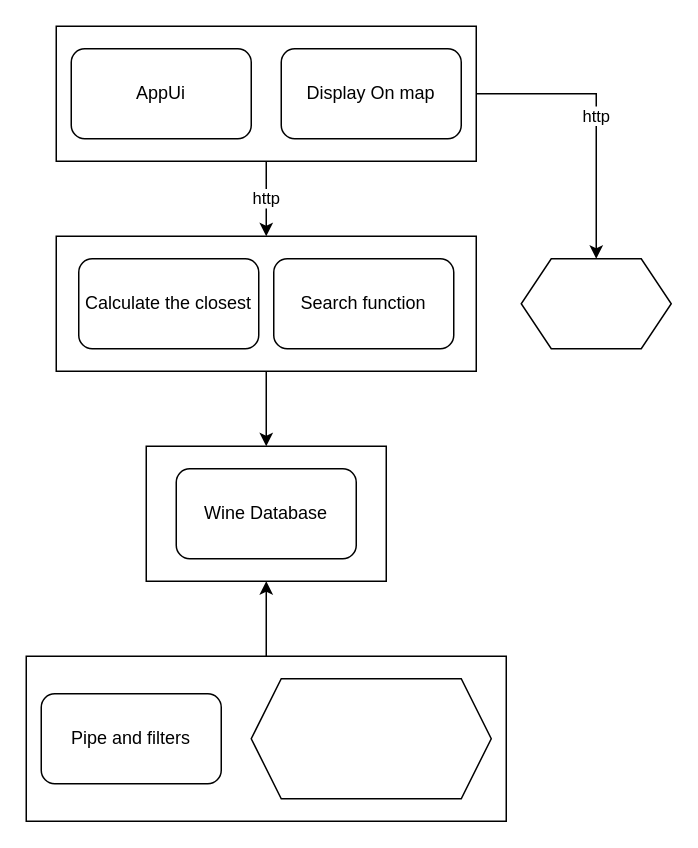
Image size: 698x848. Some labels were removed from this diagram. The shapes that lost their labels are listed below. From the top down, each one's centre as x and y in pixels, then its label:
the point at 595,303: MapAPI
the point at 370,738: Data from openStreatmap
